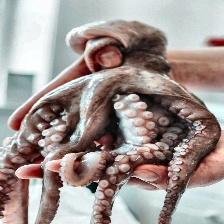octopus: (47, 92, 222, 223)
